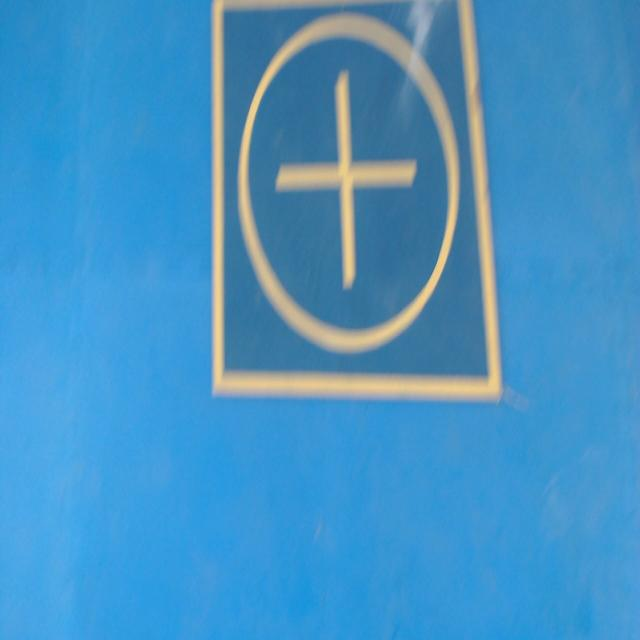base_pouso: (212, 2, 505, 402)
